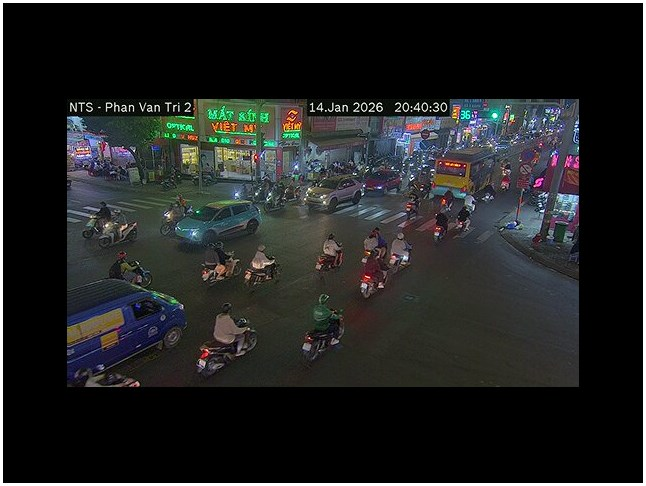car: (68, 276, 188, 382), (174, 201, 262, 251), (304, 176, 365, 213), (362, 167, 402, 193)
motorbike: (194, 326, 258, 380), (359, 248, 411, 298), (301, 310, 346, 364), (82, 215, 138, 247)
